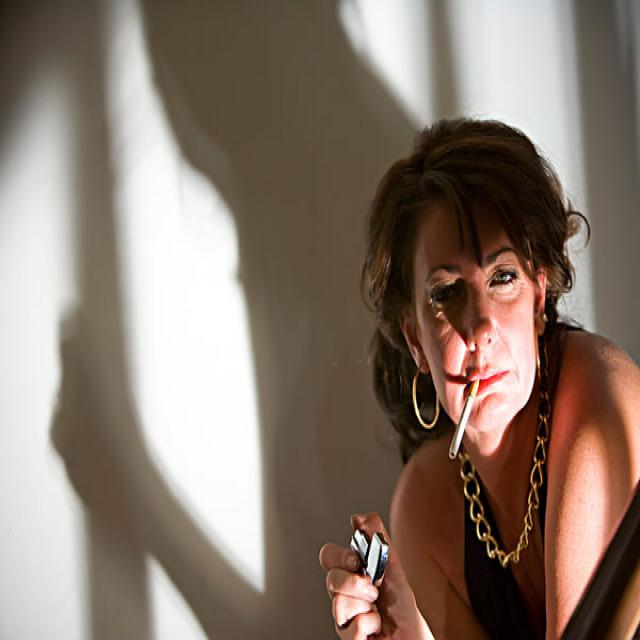smoking: (449, 378, 478, 460)
